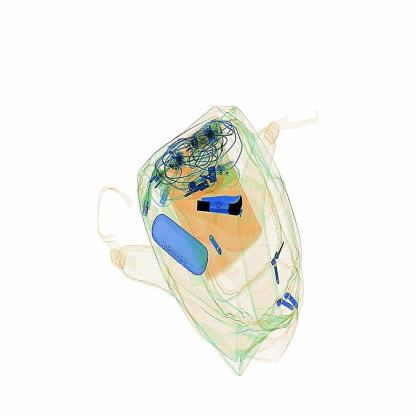knife: (192, 184, 252, 230)
